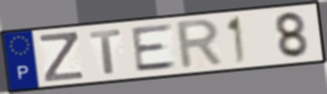1: (225, 13, 247, 66)
8: (273, 10, 310, 60)
E: (129, 22, 179, 74)
R: (175, 17, 226, 72)
T: (87, 27, 124, 76)
Z: (37, 31, 86, 84)
